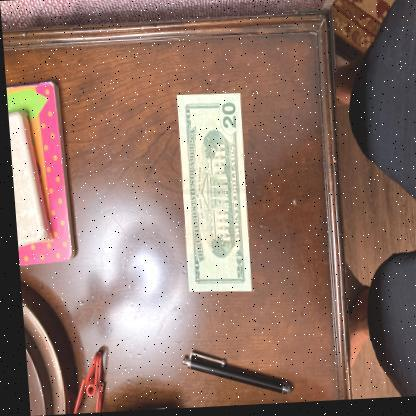dollar_back: (172, 93, 250, 296)
